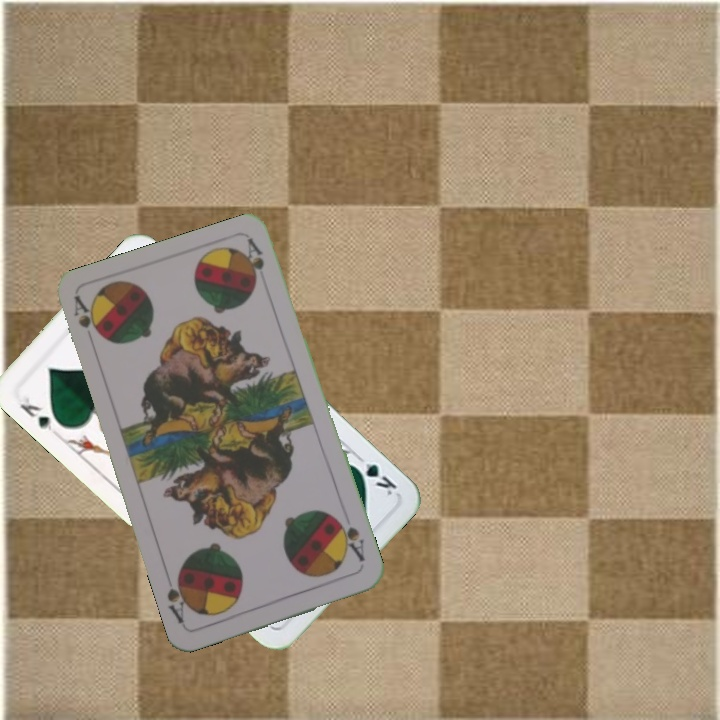GK: (347, 451, 400, 498), (16, 392, 57, 434)
SA: (332, 515, 368, 569), (70, 293, 106, 342)
